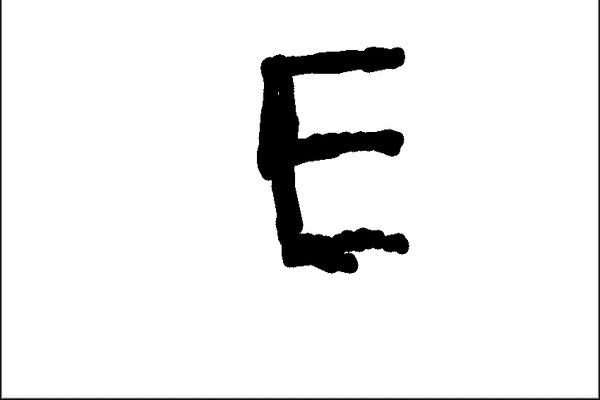E: (250, 42, 416, 278)
